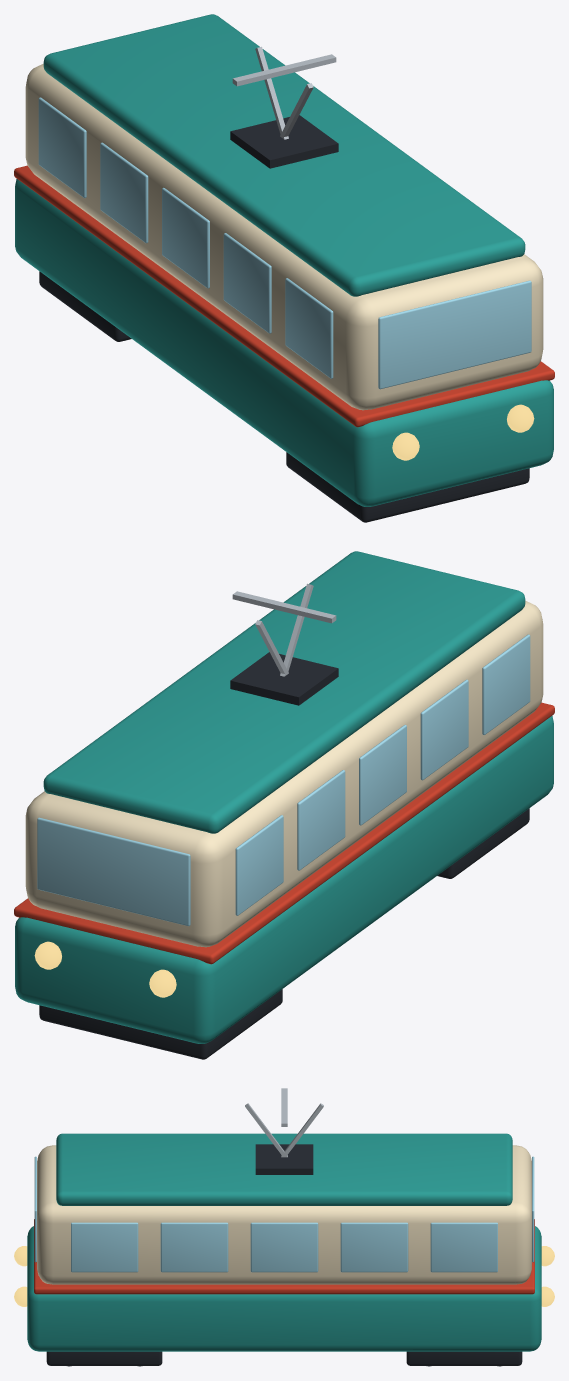
Rendered from tram_car.glb.
The picture shows the model from 3 angles, top to bottom: view 1: azimuth 30°, elevation 25°; view 2: azimuth 150°, elevation 25°; view 3: azimuth 270°, elevation 25°; orthographic projection. The views are drawn at different scales.
Visible parts, largest first — view 1: roof, lower, upper, front1, stripe, bogie2.8, win-11, win-10, win-14, win-13, panto_base, win-12 (+4 smaller); view 2: roof, lower, upper, front-1, stripe, bogie-2.8, win-13, win-10, win-14, win-11, panto_base, win-12 (+4 smaller); view 3: roof, lower, upper, stripe, win11, win13, win12, win10, win14, bogie2.8, bogie-2.8, panto_base.
Part boxes in pixels (left/top/right/bottom): roof: left=43, top=14, right=525, bottom=296; lower: left=15, top=179, right=553, bottom=506; upper: left=25, top=63, right=543, bottom=410; front1: left=378, top=280, right=531, bottom=389; stripe: left=14, top=165, right=554, bottom=427; bogie2.8: left=286, top=452, right=529, bottom=522; win-11: left=100, top=142, right=148, bottom=243; win-10: left=38, top=97, right=86, bottom=197; win-14: left=285, top=278, right=333, bottom=378; win-13: left=223, top=233, right=271, bottom=333; panto_base: left=230, top=115, right=338, bottom=168; win-12: left=162, top=187, right=209, bottom=288; roof: left=43, top=551, right=525, bottom=833; lower: left=15, top=716, right=553, bottom=1043; upper: left=25, top=600, right=543, bottom=947; front-1: left=37, top=817, right=190, bottom=926; stripe: left=14, top=702, right=554, bottom=964; bogie-2.8: left=39, top=989, right=282, bottom=1059; win-13: left=420, top=679, right=468, bottom=780; win-10: left=235, top=815, right=283, bottom=915; win-14: left=482, top=634, right=530, bottom=734; win-11: left=297, top=770, right=345, bottom=870; panto_base: left=230, top=652, right=338, bottom=705; win-12: left=359, top=724, right=406, bottom=825; roof: left=56, top=1133, right=512, bottom=1205; lower: left=27, top=1226, right=541, bottom=1351; upper: left=37, top=1145, right=531, bottom=1284; stripe: left=34, top=1219, right=534, bottom=1294; win11: left=340, top=1222, right=408, bottom=1272; win13: left=160, top=1222, right=228, bottom=1272; win12: left=250, top=1222, right=318, bottom=1272; win10: left=430, top=1222, right=497, bottom=1272; win14: left=71, top=1222, right=138, bottom=1272; bogie2.8: left=46, top=1351, right=162, bottom=1365; bogie-2.8: left=406, top=1351, right=522, bottom=1365; panto_base: left=255, top=1144, right=313, bottom=1174.
Bounding box in the file's own units: 2.62 × 4.11 × 8.42.
